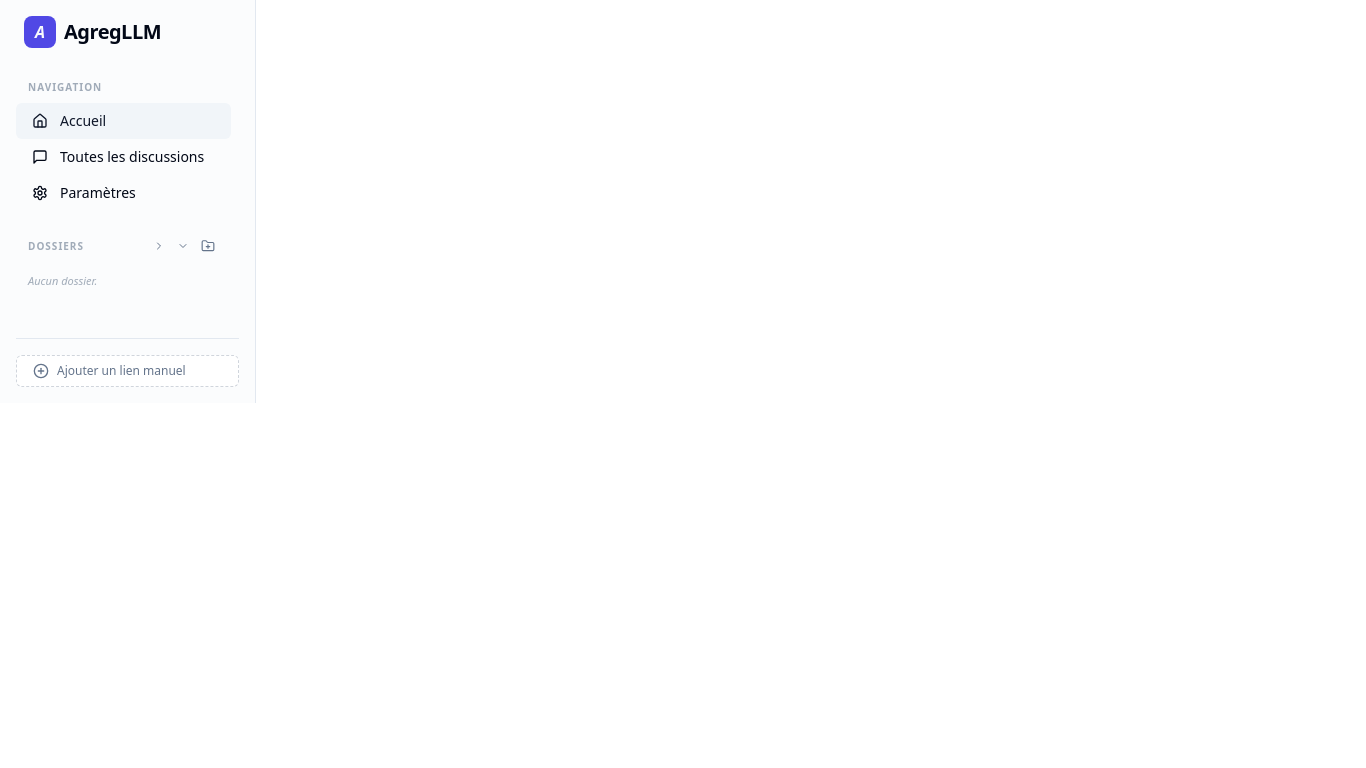
Sidebar › permet d'ouvrir le dialogue de création de dossier
What coordinates should you click on to do the following:
click the button titled "Créer un dossier racine"
I would click on:
 (208, 246)
Its box is [197,235,219,257].
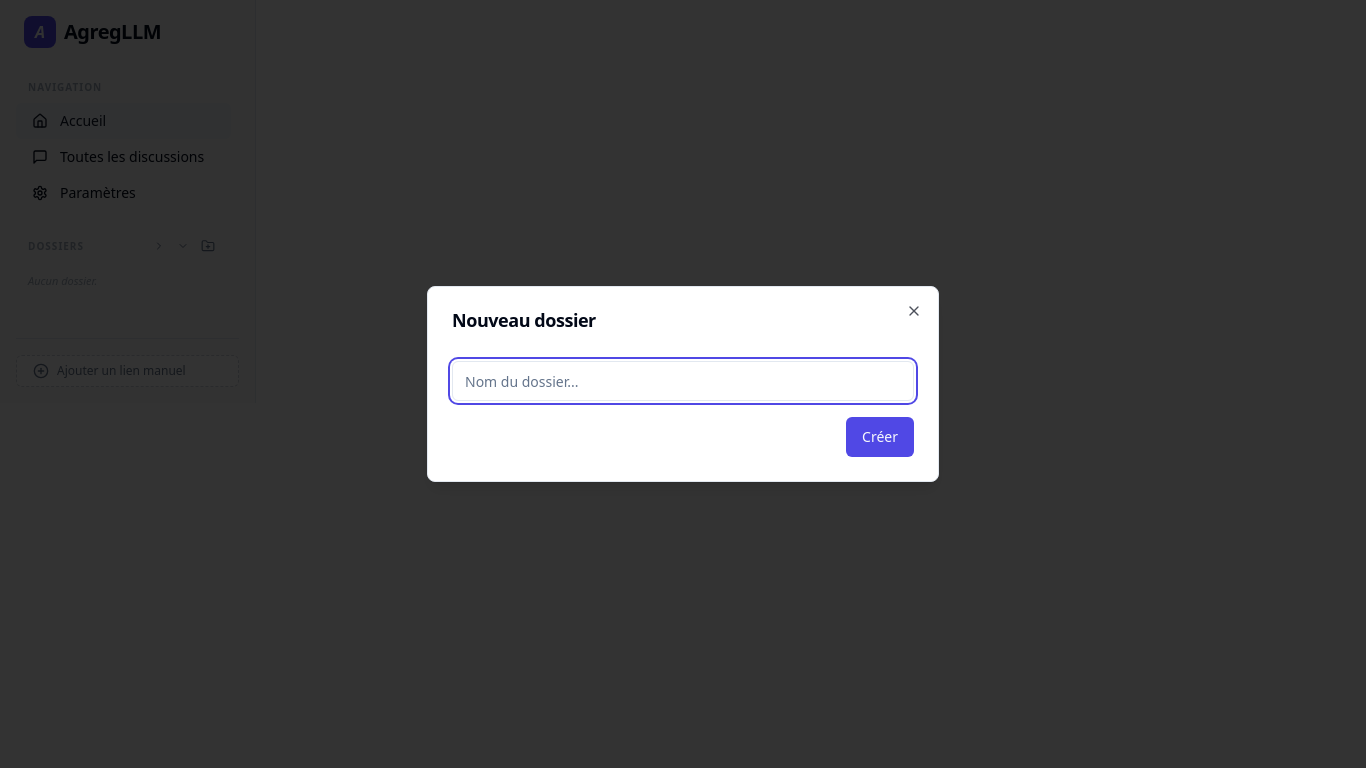
Result: the heading "Nouveau dossier" is shown at [452,308,596,332]
